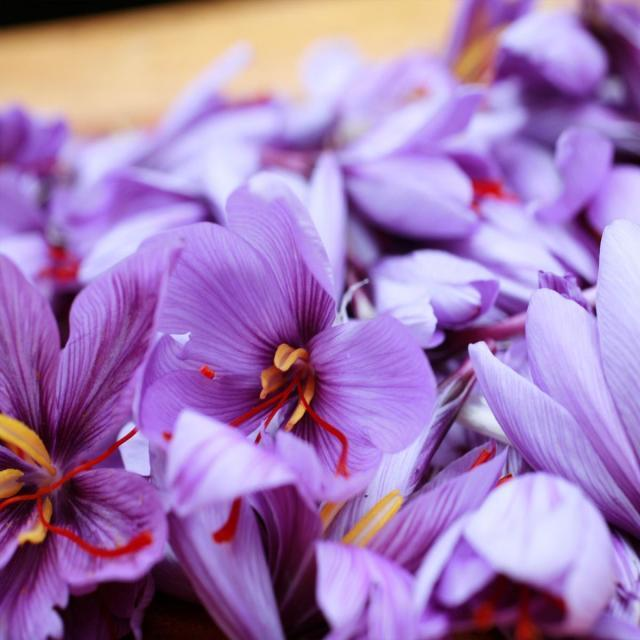Flower: (168, 176, 439, 512), (0, 241, 158, 640), (498, 216, 640, 640)
stigma: (0, 426, 141, 506), (42, 518, 154, 560), (300, 402, 356, 480)
